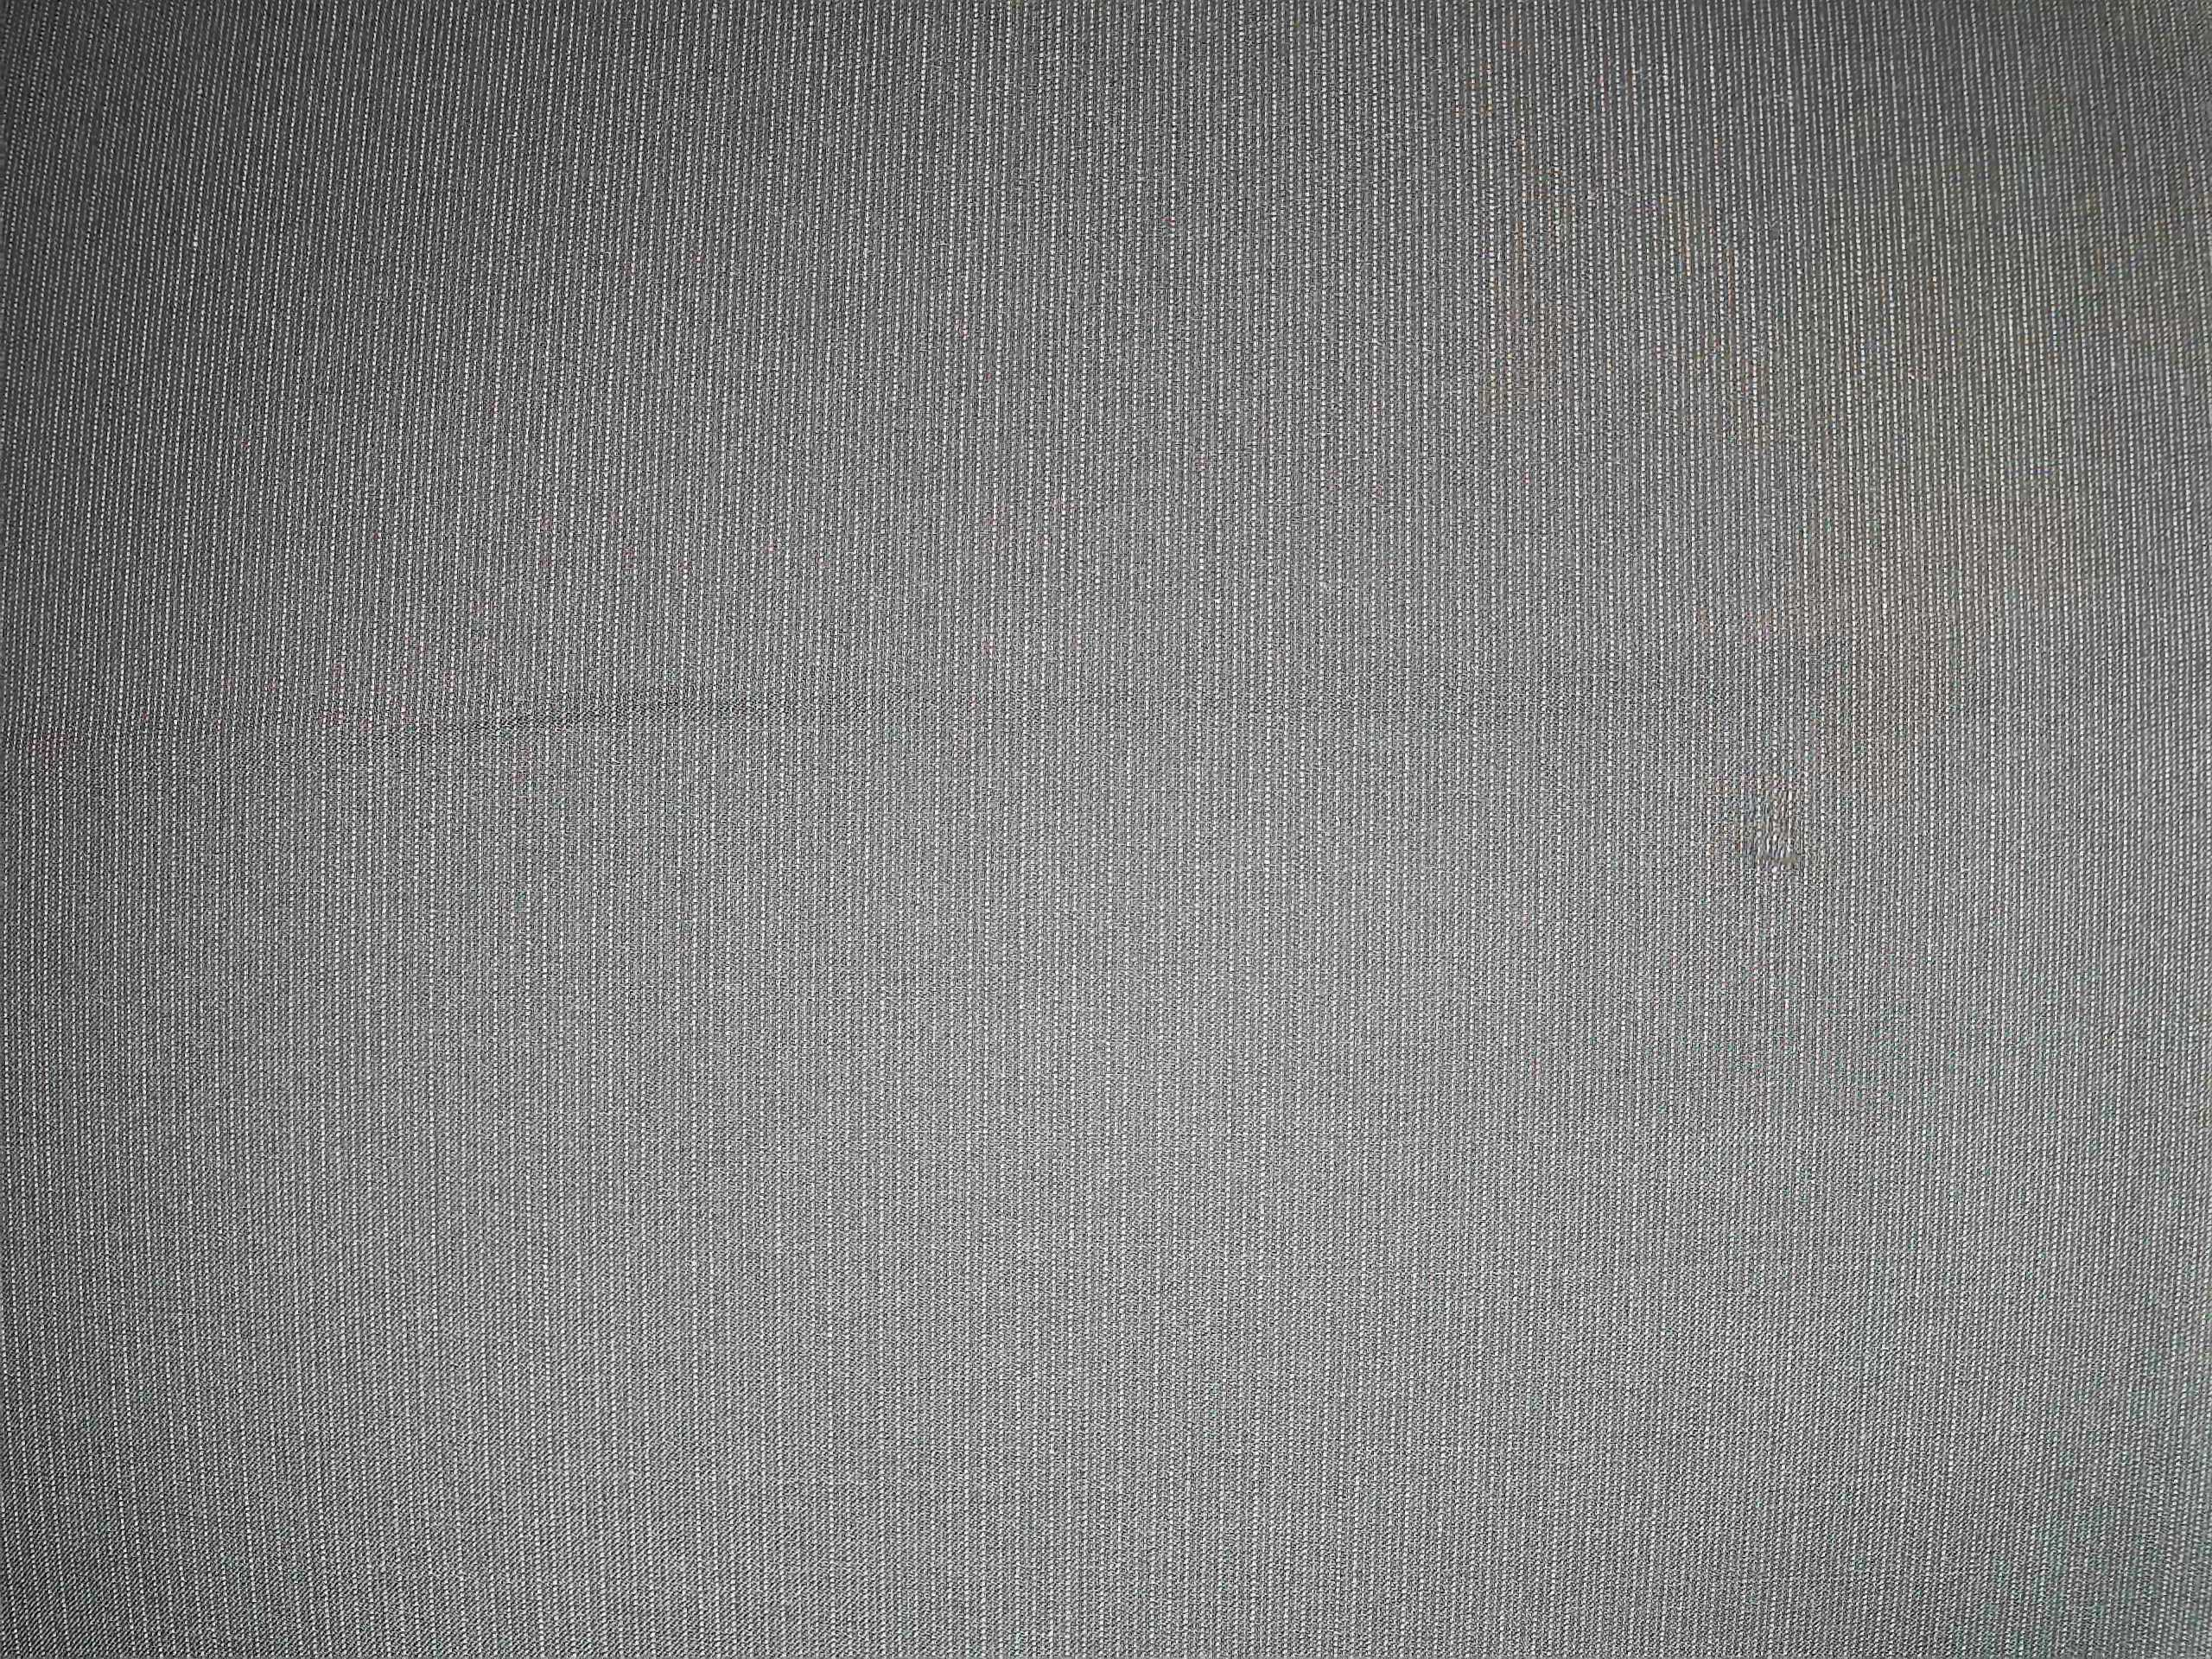knots: (1723, 789, 1824, 896)
